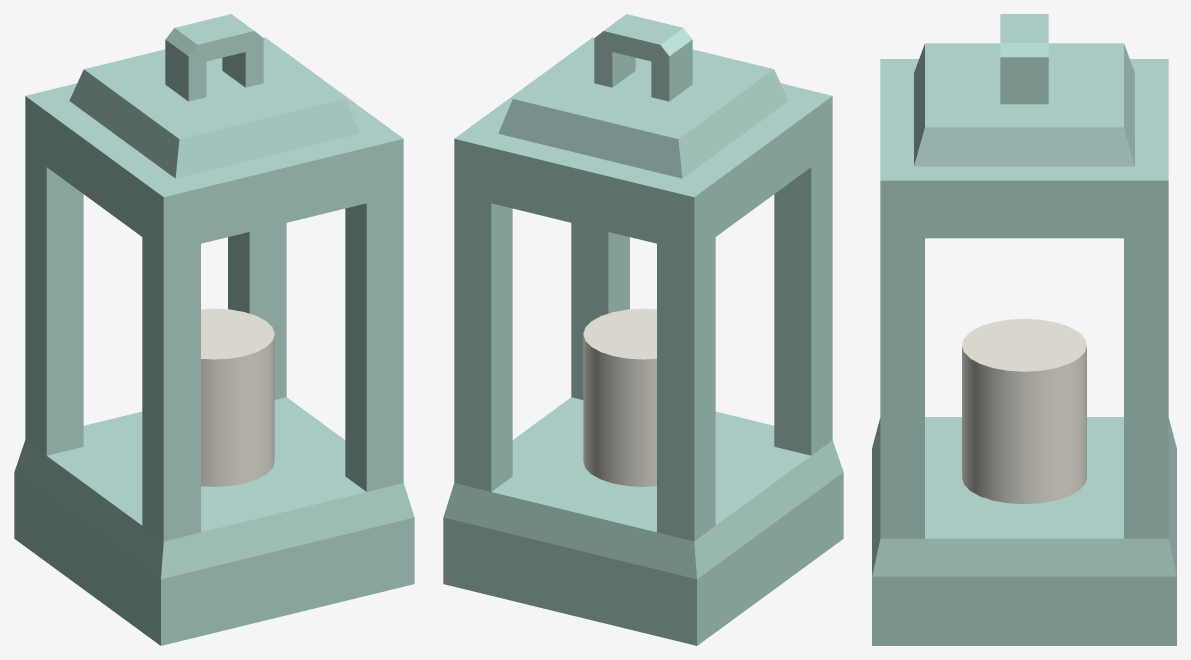
File: lanternCandle.glb
3 views of the same model, side by side, from view 1: azimuth 30°, elevation 25°; view 2: azimuth 150°, elevation 25°; view 3: azimuth 270°, elevation 25° (orthographic). The views are drawn at different scales.
Visible parts, largest first — view 1: lanternCandle(Clone); view 2: lanternCandle(Clone); view 3: lanternCandle(Clone).
Boxes of the visible parts, x1,y1,x2,y2 form: lanternCandle(Clone): (14,14,414,645); lanternCandle(Clone): (443,14,843,645); lanternCandle(Clone): (872,14,1176,645).
Bounding box in the file's own units: 0.1459 × 0.2923 × 0.1459.
